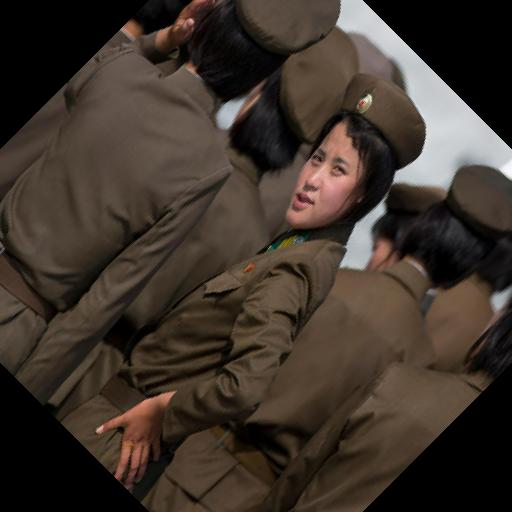north army: (135, 50, 430, 512)
